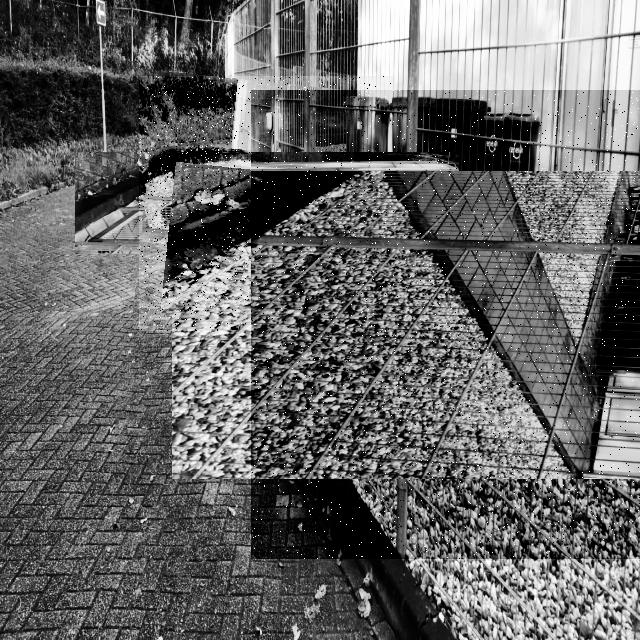fences: (251, 90, 640, 559), (139, 76, 395, 331)
